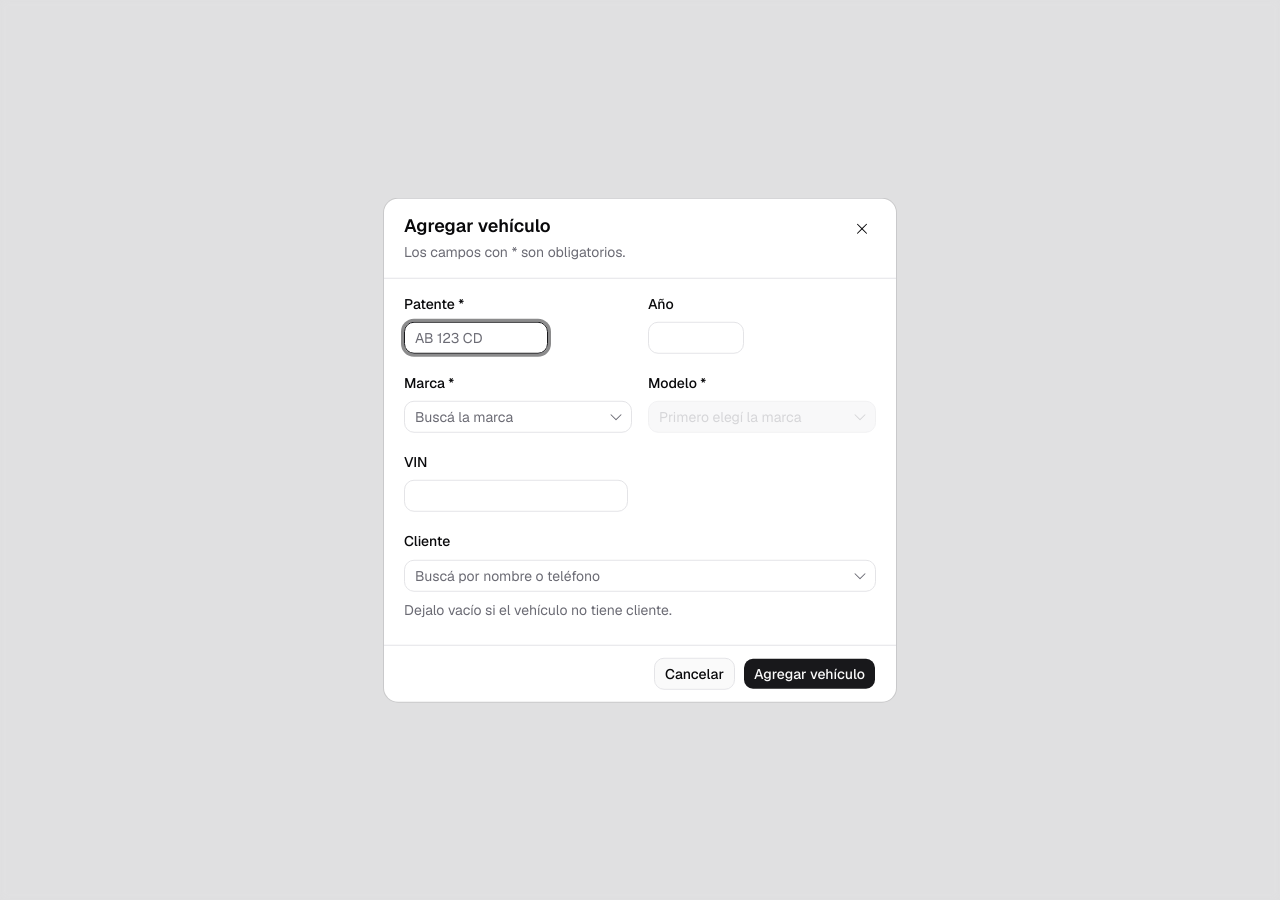
it: vehicle form: add › formats the plate, year and VIN as they are typed
In the field labelled "Patente *": coordinates (476, 338) [404, 322, 548, 354], type "ab-123 cdxyz"
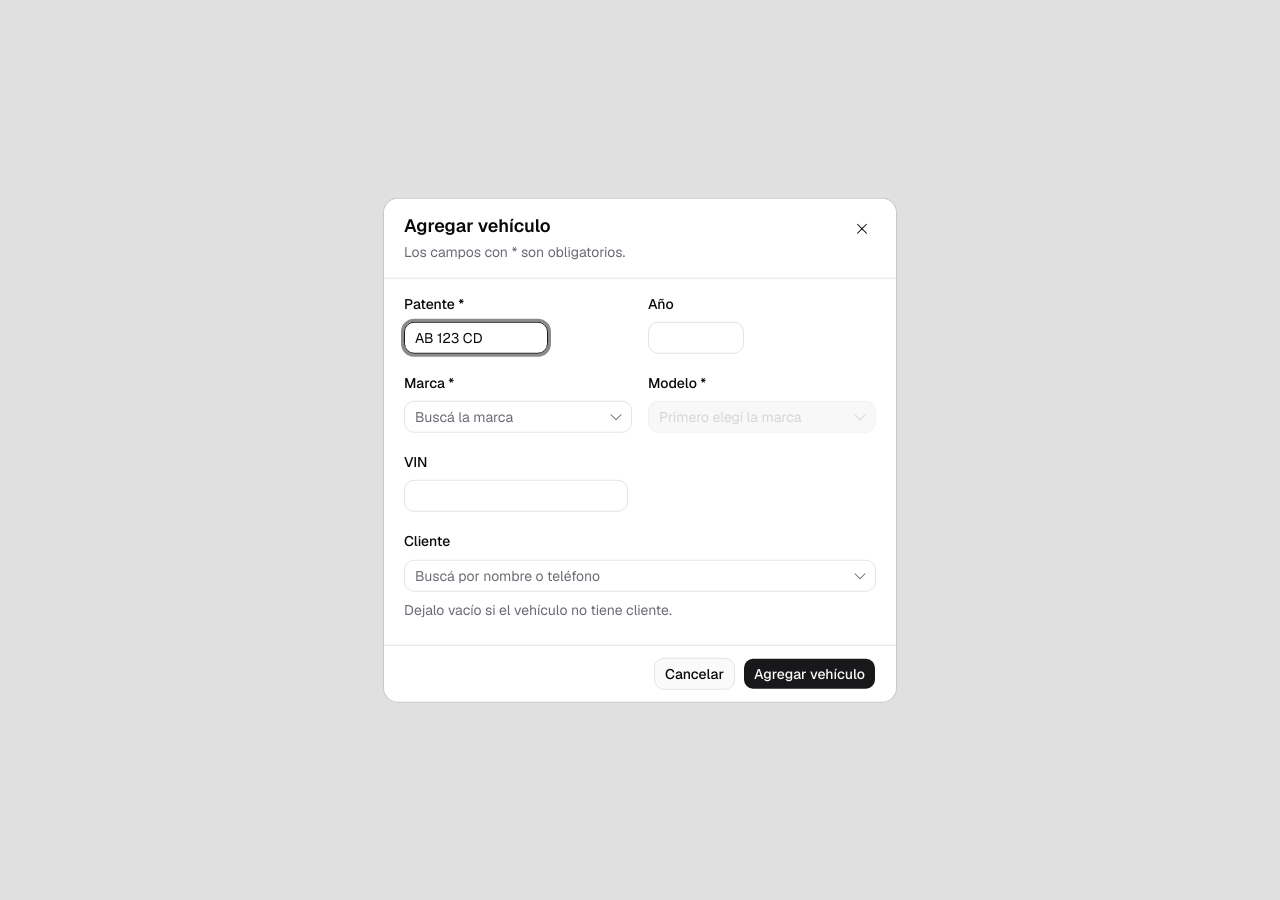
Check: the field labelled "Patente *" holds "AB 123 CD", box [404, 322, 548, 354]
In the field labelled "Año": coordinates (696, 338) [648, 322, 744, 354], type "20a21999"
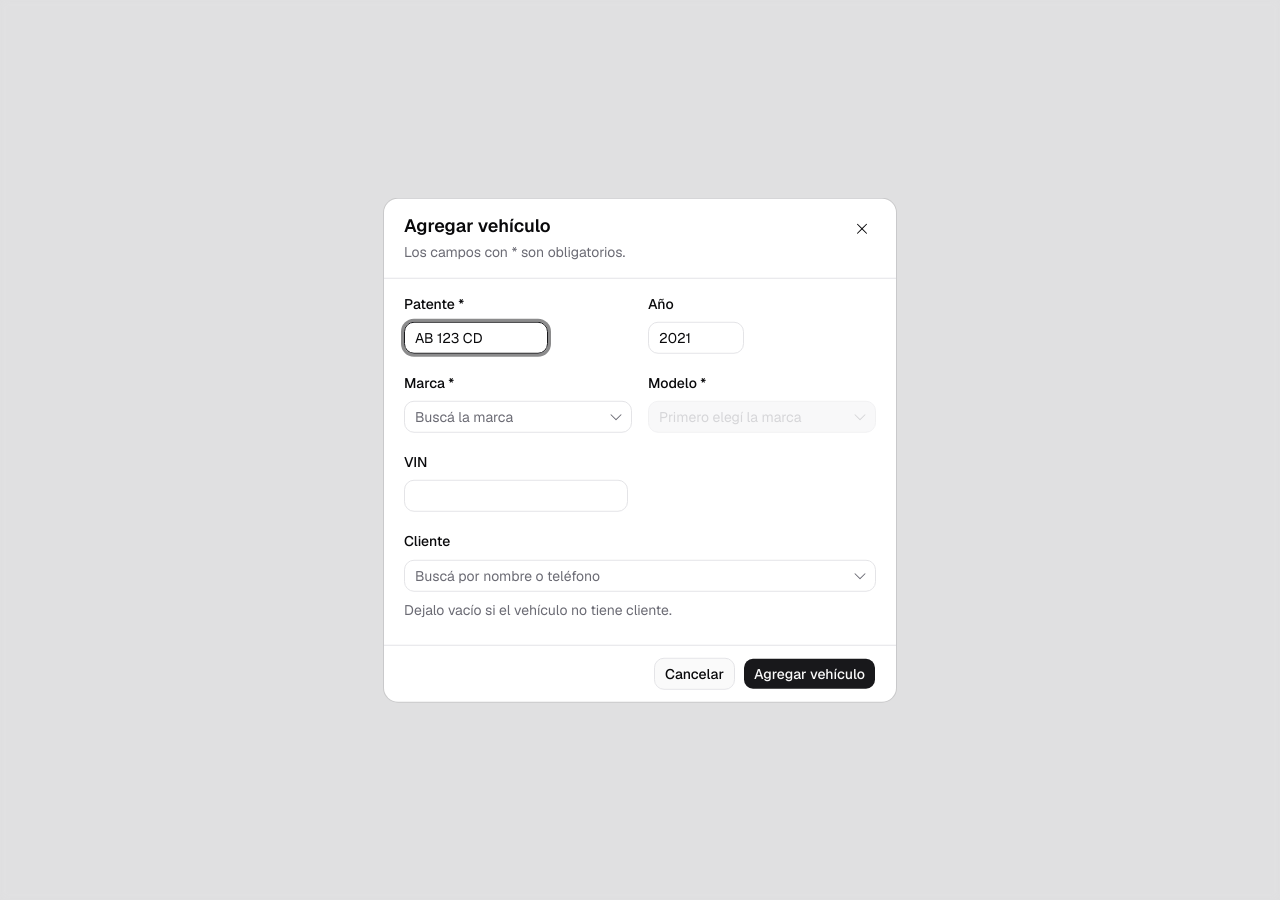
Check: the field labelled "Año" holds "2021", box [648, 322, 744, 354]
In the field labelled "VIN": coordinates (516, 496) [404, 480, 628, 512], type "1hg-cm82633a 004352999"
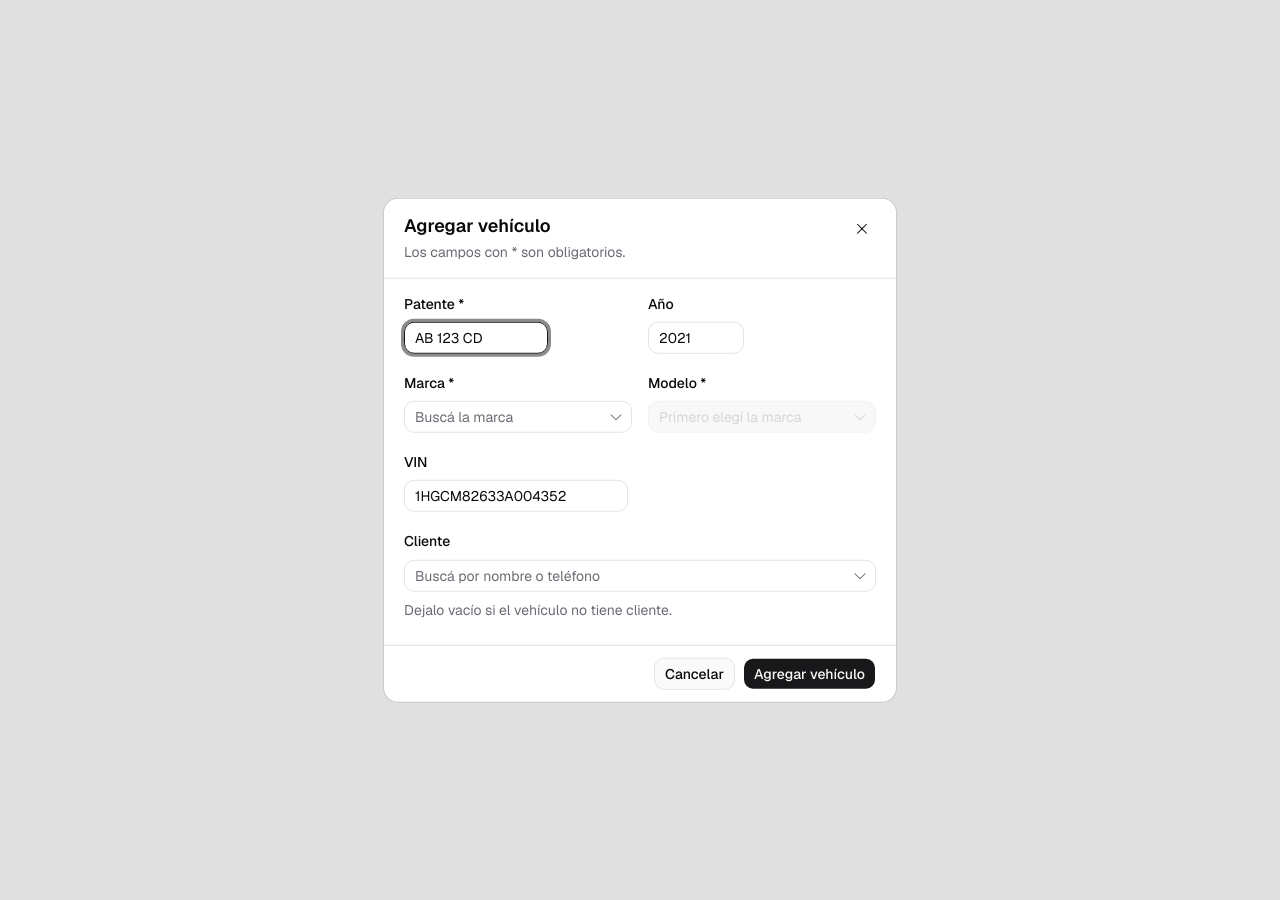
Check: the field labelled "VIN" holds "1HGCM82633A004352", box [404, 480, 628, 512]
